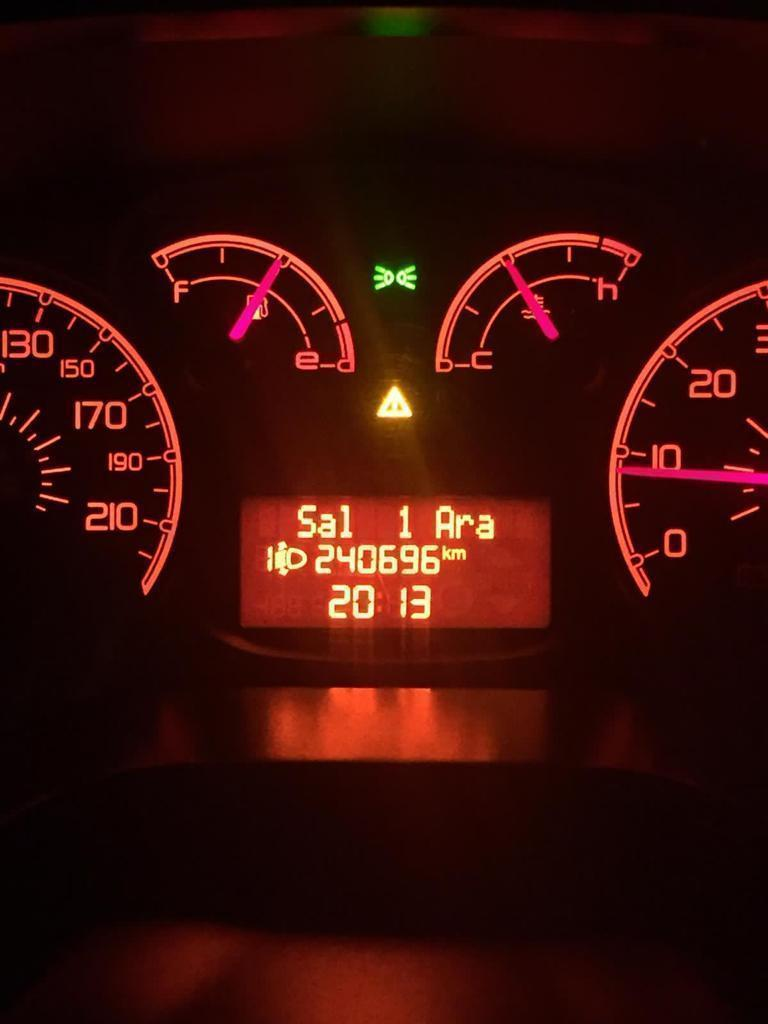0: (351, 583, 375, 620), (357, 543, 377, 575)
1: (397, 502, 416, 540), (398, 585, 408, 619), (264, 543, 273, 573)
2: (329, 582, 351, 618), (314, 542, 335, 575)
3: (411, 582, 432, 620)
4: (336, 543, 355, 573)
6: (421, 542, 440, 575), (378, 543, 397, 575)
9: (399, 543, 419, 575)
X: (434, 504, 455, 539), (297, 503, 315, 539), (476, 513, 495, 541), (455, 512, 474, 539), (318, 512, 337, 538), (340, 503, 353, 539), (452, 547, 467, 560), (376, 590, 384, 613), (441, 544, 451, 560)
odometer: (227, 491, 560, 639)
